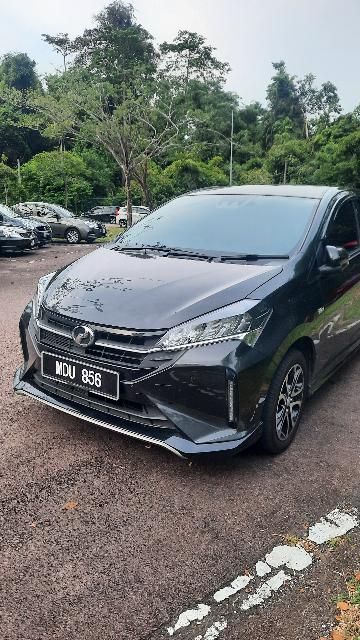License_Plate: (41, 350, 123, 406)
car: (17, 181, 360, 459)
